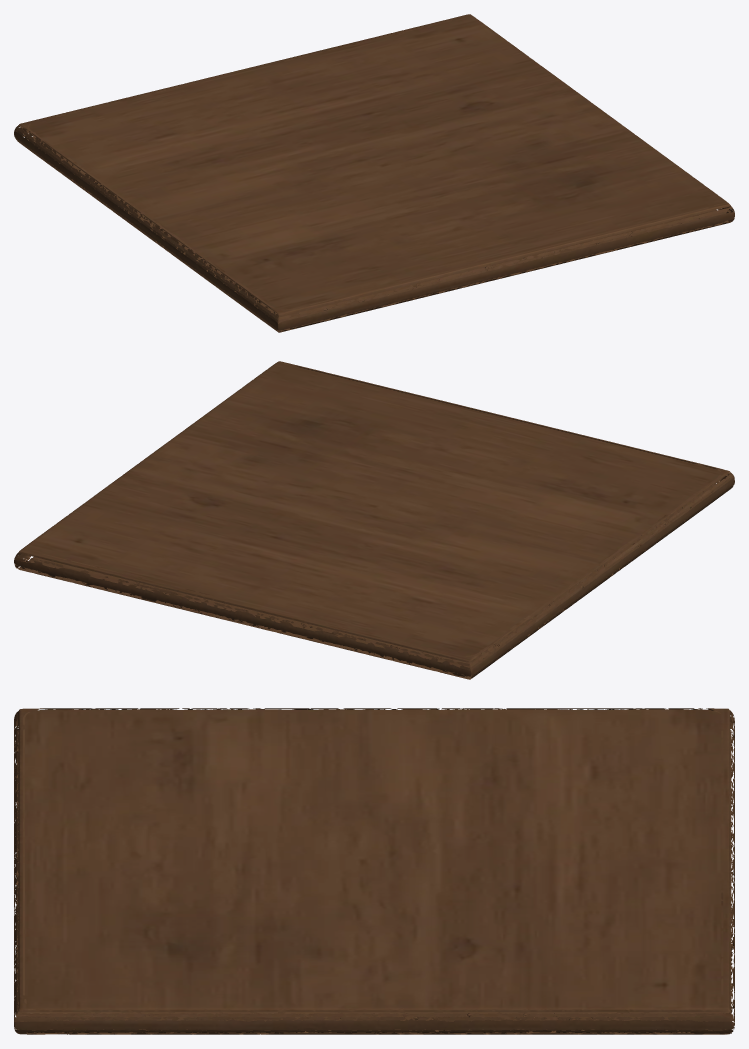
The model's file is cantilevered_walnut_desk.raw.glb.
The picture shows the model from 3 angles, top to bottom: view 1: azimuth 30°, elevation 25°; view 2: azimuth 150°, elevation 25°; view 3: azimuth 270°, elevation 25°; orthographic projection. The views are drawn at different scales.
Visible parts, largest first — view 1: world; view 2: world; view 3: world.
Part boxes in pixels (box(x1,y1,x2,y2)): world: box(14, 14, 734, 332); world: box(14, 361, 734, 679); world: box(14, 708, 734, 1034).
Bounding box in the file's own units: 1 × 0.04 × 1.
1 material, 1 textured.
